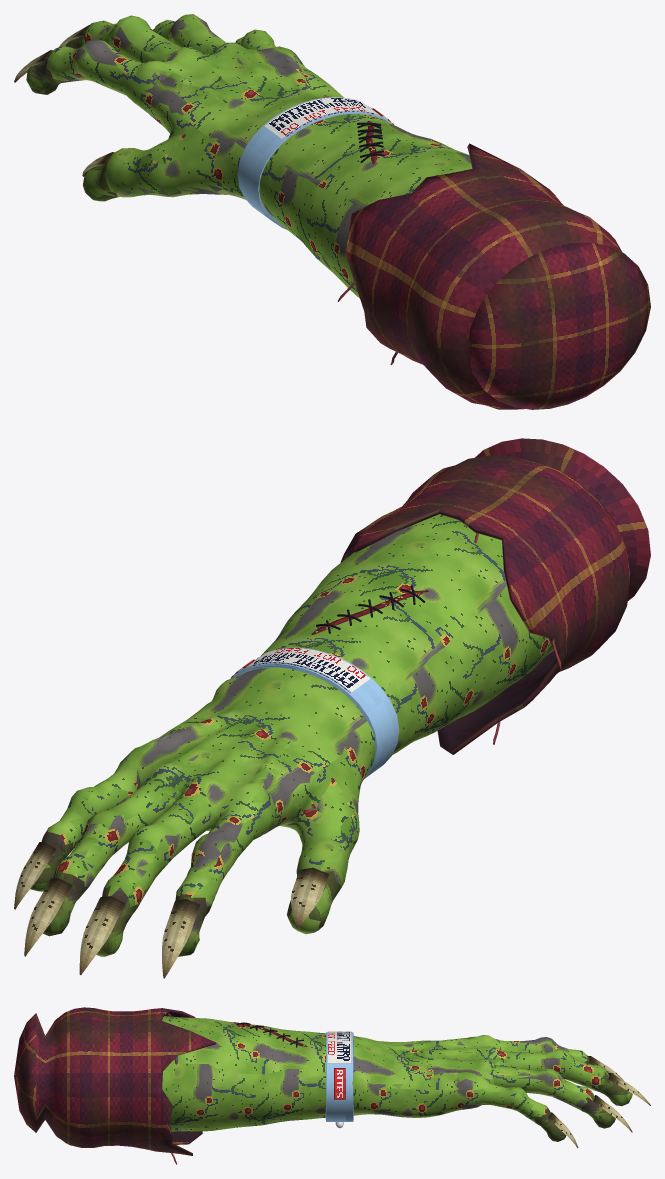
The model's file is w_claw.glb.
3 views of the same model, one above another, from view 1: azimuth 30°, elevation 25°; view 2: azimuth 150°, elevation 25°; view 3: azimuth 270°, elevation 25° (orthographic). The views are drawn at different scales.
Visible parts, largest first — view 1: claw_wzA, claw_wzN, claw_wzB; view 2: claw_wzA, claw_wzB, claw_wzN; view 3: claw_wzA, claw_wzN, claw_wzB.
Boxes of the visible parts, bbox=[...] form: claw_wzA: bbox=[26, 14, 650, 409]; claw_wzN: bbox=[237, 97, 393, 229]; claw_wzB: bbox=[14, 24, 153, 176]; claw_wzA: bbox=[30, 438, 650, 956]; claw_wzB: bbox=[14, 842, 328, 978]; claw_wzN: bbox=[230, 647, 399, 778]; claw_wzA: bbox=[14, 1007, 632, 1164]; claw_wzN: bbox=[325, 1031, 353, 1128]; claw_wzB: bbox=[548, 1056, 650, 1148].
Bounding box in the file's own units: 0.1515 × 0.129 × 0.5495.
Materials: 13 (11 with a texture image).
